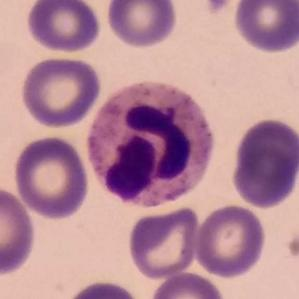Neutrophil: (80, 76, 222, 217)
Platelets: (205, 0, 231, 14)
RBC: (11, 133, 92, 221), (228, 114, 299, 210), (19, 54, 104, 129), (192, 202, 268, 280), (125, 204, 202, 280), (24, 0, 104, 55), (104, 0, 180, 50), (231, 0, 299, 55), (0, 184, 38, 277), (147, 269, 228, 299), (61, 277, 145, 299)
